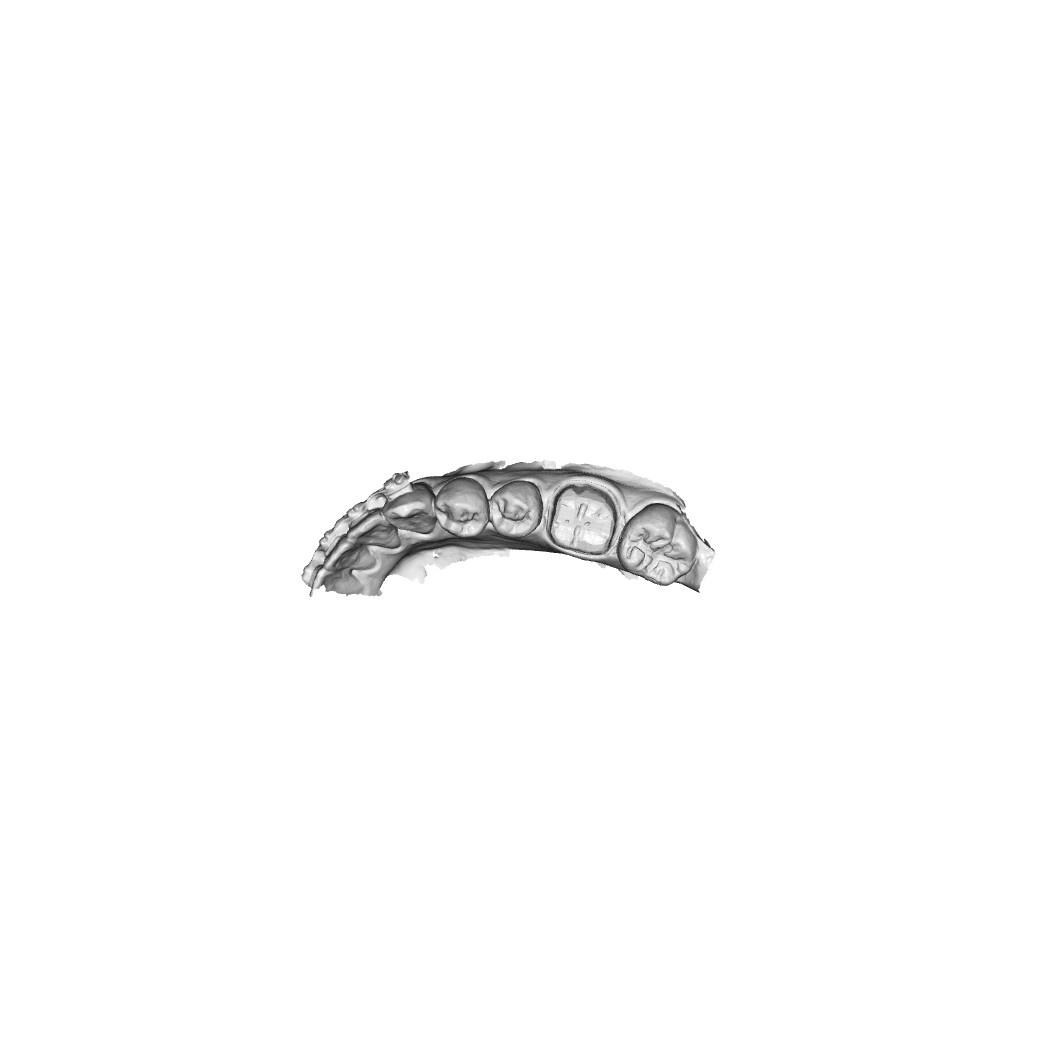canine: (386, 491, 437, 534)
crown: (542, 479, 623, 564)
incisor: (349, 514, 404, 549), (326, 541, 379, 572)
molar: (619, 503, 694, 585)
premolar: (489, 482, 539, 536), (438, 482, 487, 536)
